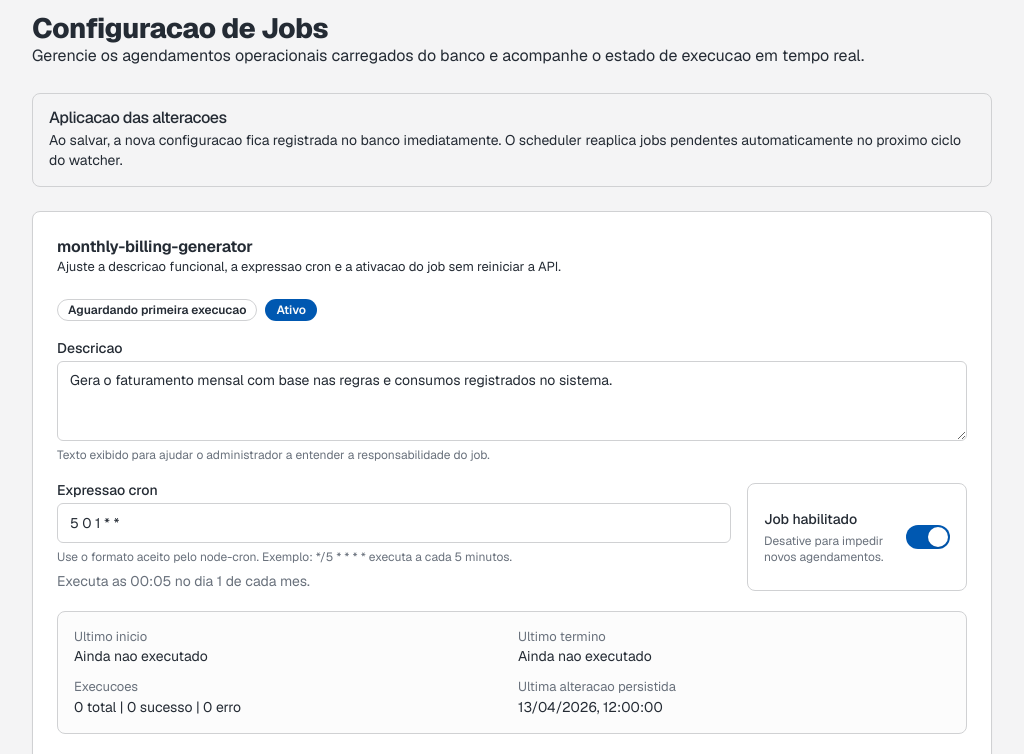
AdminJobsPage › mostra mensagem de cron incompleto enquanto o usuario digita
Expected: the text "Executa as 00:05 no dia 1 de cada mes." is shown, [57,572,310,590]
Step 1. Replace the text in the field labelled "Expressao cron" with "*/5 * *" → (394, 523), box [57,503,731,543]
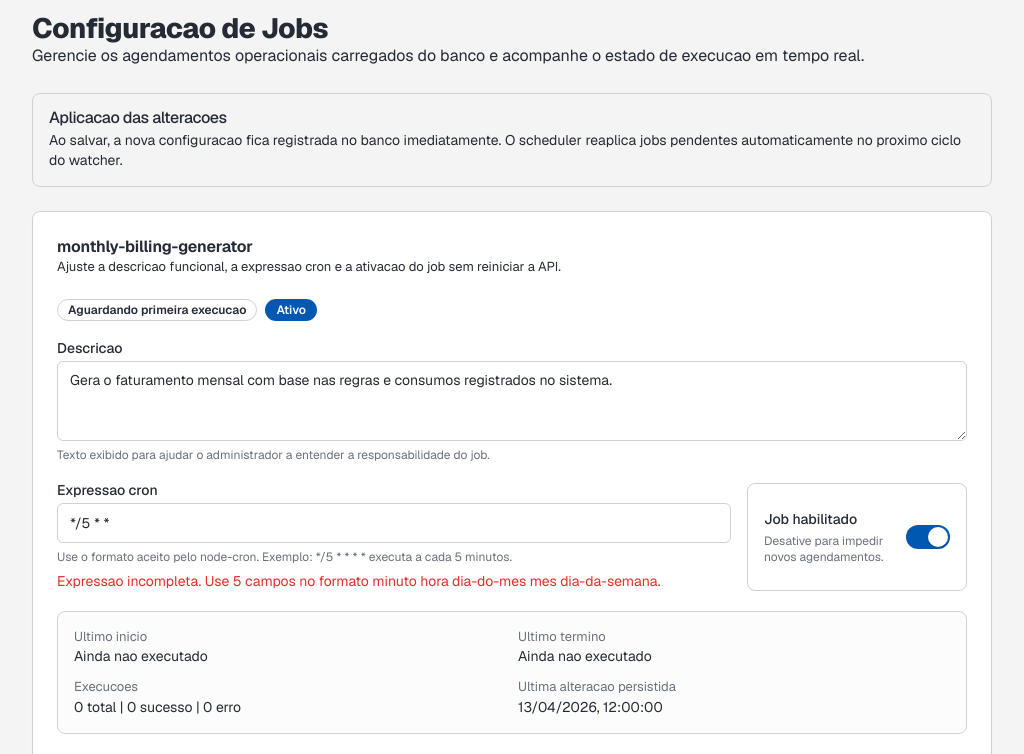
Result: the text "Expressao incompleta. Use 5 campos no formato minuto hora dia-do-mes mes dia-da-semana." is shown at [57,572,660,590]
